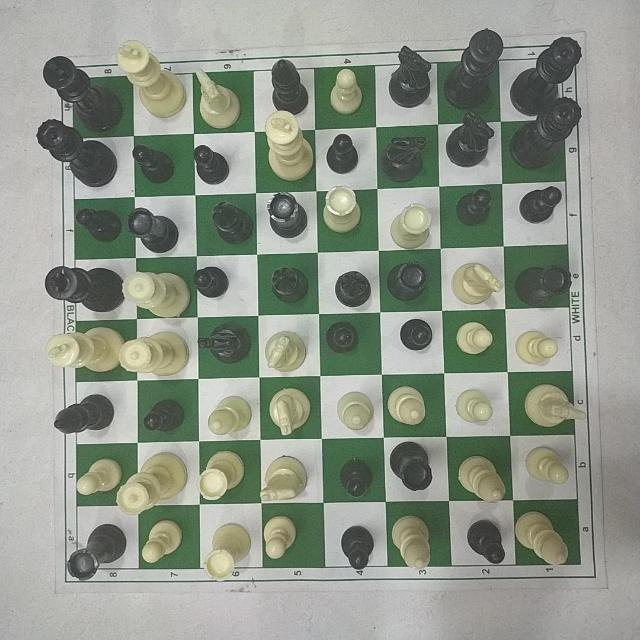black-bishop: (209, 197, 254, 248), (335, 263, 372, 309)
black-king: (38, 53, 123, 133), (512, 33, 588, 113), (446, 26, 506, 106), (41, 263, 123, 313), (266, 57, 310, 115)
black-knight: (387, 42, 436, 110), (445, 109, 497, 172), (377, 132, 432, 186), (196, 319, 253, 371)
black-pawn: (387, 438, 435, 493), (129, 139, 179, 184), (465, 516, 508, 565), (71, 206, 123, 246), (514, 186, 564, 226), (193, 140, 235, 183), (336, 522, 376, 567), (455, 186, 495, 230), (141, 399, 185, 437), (337, 456, 375, 499), (324, 132, 360, 175), (322, 318, 361, 357), (398, 313, 436, 353), (191, 263, 233, 299)
black-queen: (32, 118, 118, 188), (509, 96, 580, 172)
black-rook: (65, 521, 129, 585), (124, 205, 182, 254), (451, 257, 505, 307), (516, 260, 572, 305), (264, 191, 310, 238), (324, 184, 364, 236), (387, 260, 429, 302)
white-bishop: (516, 508, 572, 569), (456, 453, 510, 506), (389, 516, 438, 570), (206, 395, 255, 437), (331, 389, 376, 432), (387, 384, 429, 428)
white-king: (114, 36, 188, 120), (256, 109, 317, 181), (43, 326, 119, 379), (120, 333, 191, 377)
white-knight: (521, 378, 588, 431), (194, 67, 242, 129), (258, 453, 309, 503), (263, 330, 311, 375)
white-pawn: (118, 449, 187, 513), (51, 394, 115, 439), (139, 518, 187, 564), (524, 444, 572, 490), (326, 65, 368, 117), (73, 457, 121, 501), (261, 512, 303, 562), (454, 383, 498, 425), (452, 320, 498, 358), (511, 329, 558, 365)
white-queen: (269, 386, 316, 436), (269, 266, 309, 306)
white-rook: (119, 265, 190, 318), (204, 517, 254, 578), (195, 446, 247, 502), (384, 203, 433, 255)
